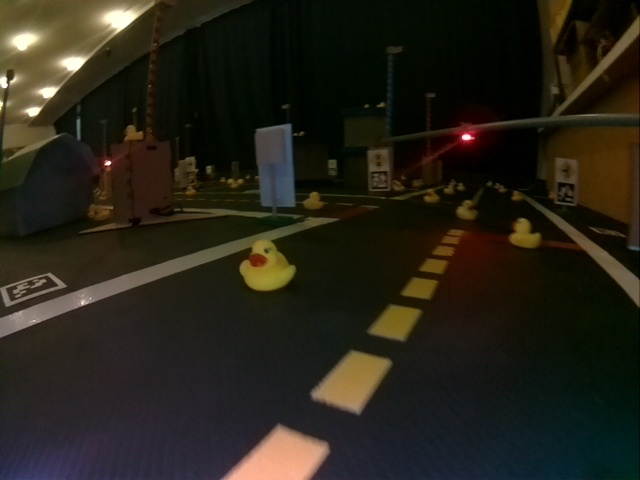Duckie: (239, 240, 296, 291), (510, 219, 539, 246), (456, 199, 476, 219), (303, 194, 324, 209), (122, 126, 143, 141), (94, 206, 109, 220), (423, 190, 438, 202)
Intersection sign: (555, 158, 576, 180)
QR code: (1, 273, 67, 305), (590, 226, 625, 238), (556, 183, 575, 204), (370, 172, 389, 189)
Signal sign: (367, 150, 389, 169)
Traffic light: (462, 125, 475, 143)
